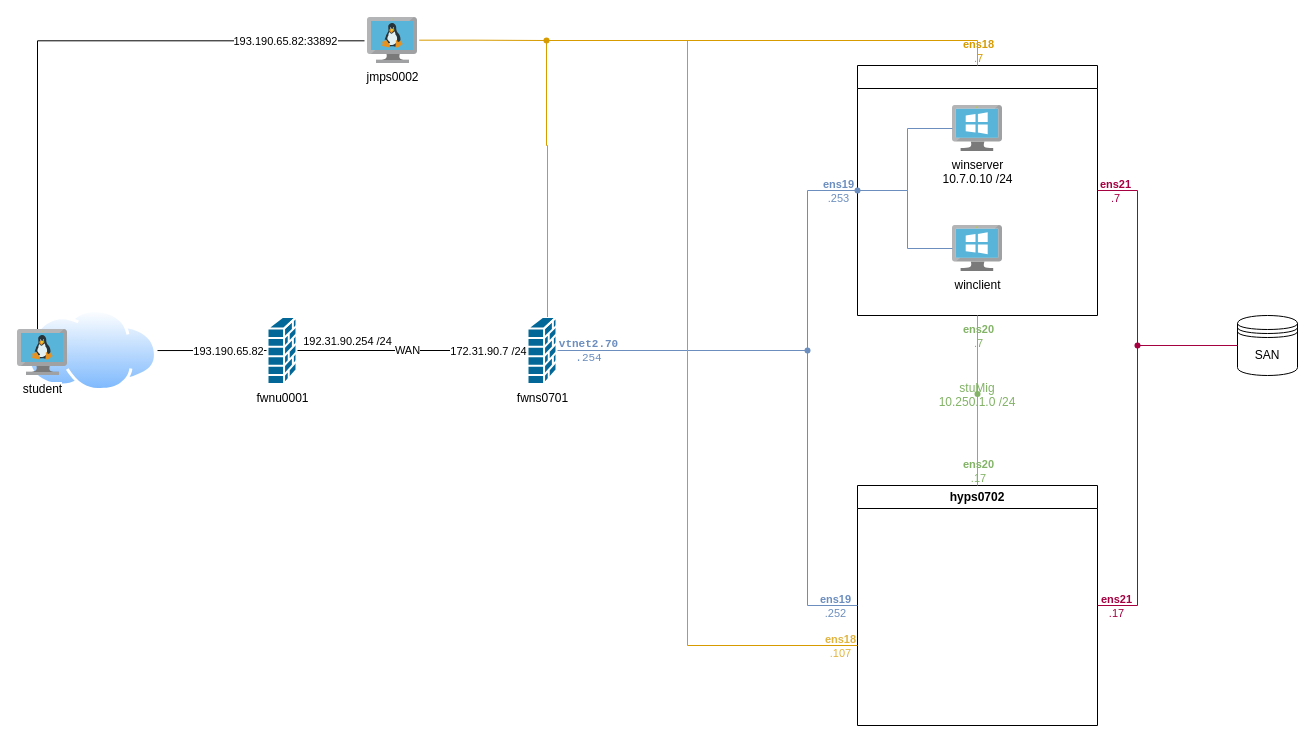
The diagram is 1315 pixels wide and 743 high, and some of its shapes have lost their labels. Each missing label, with the box of its shape:
hyps0701: (856, 64, 1098, 316)
INTERNET: (27, 309, 157, 391)
stuMgm 172.31.80.0/24: (536, 30, 556, 50)
stuSan 10.250.0.0 /24: (1126, 334, 1148, 356)
stuVmNet 10.7.0.0 /24: (796, 340, 818, 360)
